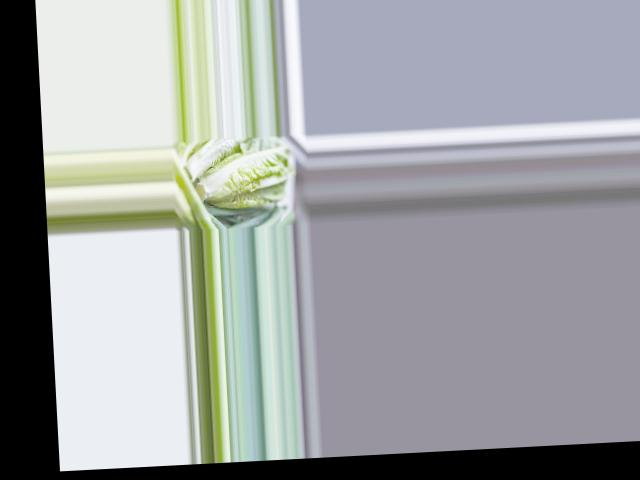lettuce: (193, 145, 295, 212)
